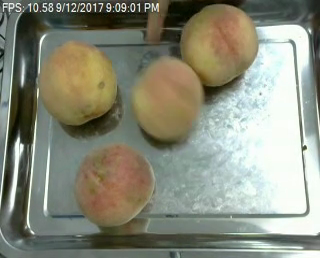Peach: (37, 39, 118, 126), (74, 141, 154, 228), (179, 3, 258, 89), (131, 57, 202, 142)
